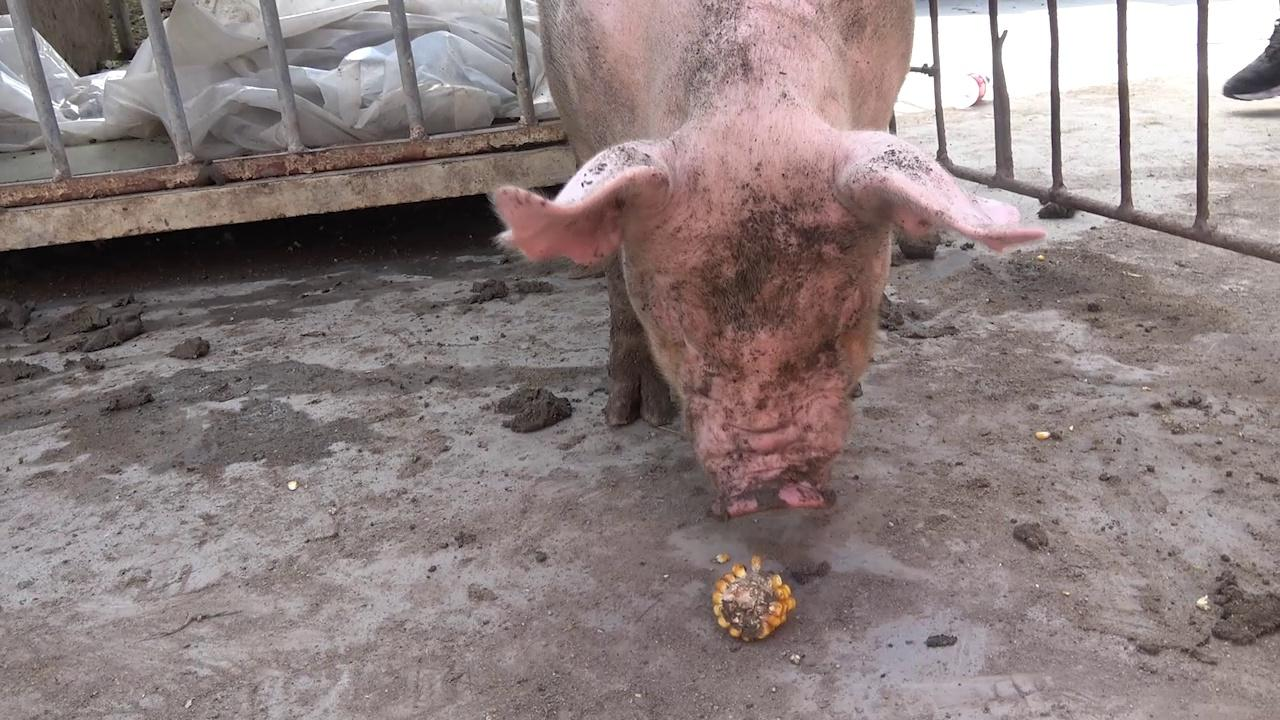Face: (466, 125, 1058, 528)
